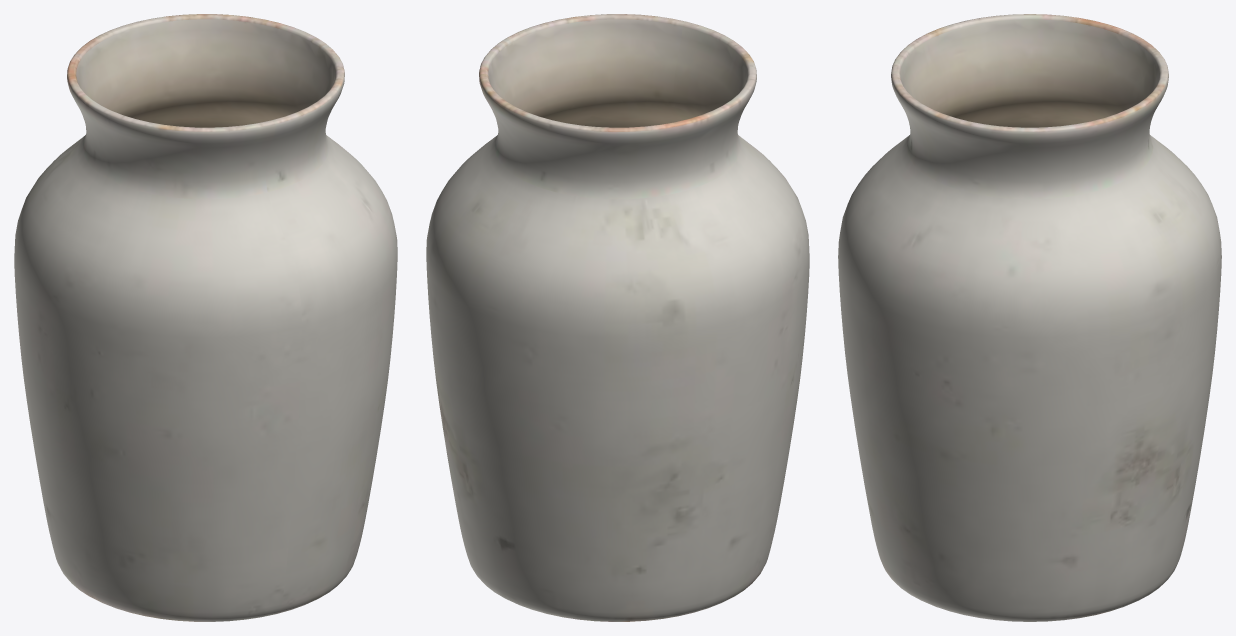
Rendered from ceramic_vase_02.glb.
3 views of the same model, side by side, from view 1: azimuth 30°, elevation 25°; view 2: azimuth 150°, elevation 25°; view 3: azimuth 270°, elevation 25° (orthographic).
Visible parts, largest first — view 1: ceramic_vase_02; view 2: ceramic_vase_02; view 3: ceramic_vase_02.
Boxes of the visible parts, x1,y1,x2,y2 form: ceramic_vase_02: (14, 14, 397, 621); ceramic_vase_02: (426, 14, 809, 621); ceramic_vase_02: (838, 14, 1221, 621).
Bounding box in the file's own units: 0.2184 × 0.3092 × 0.2184.
Materials: 1 (1 with a texture image).
